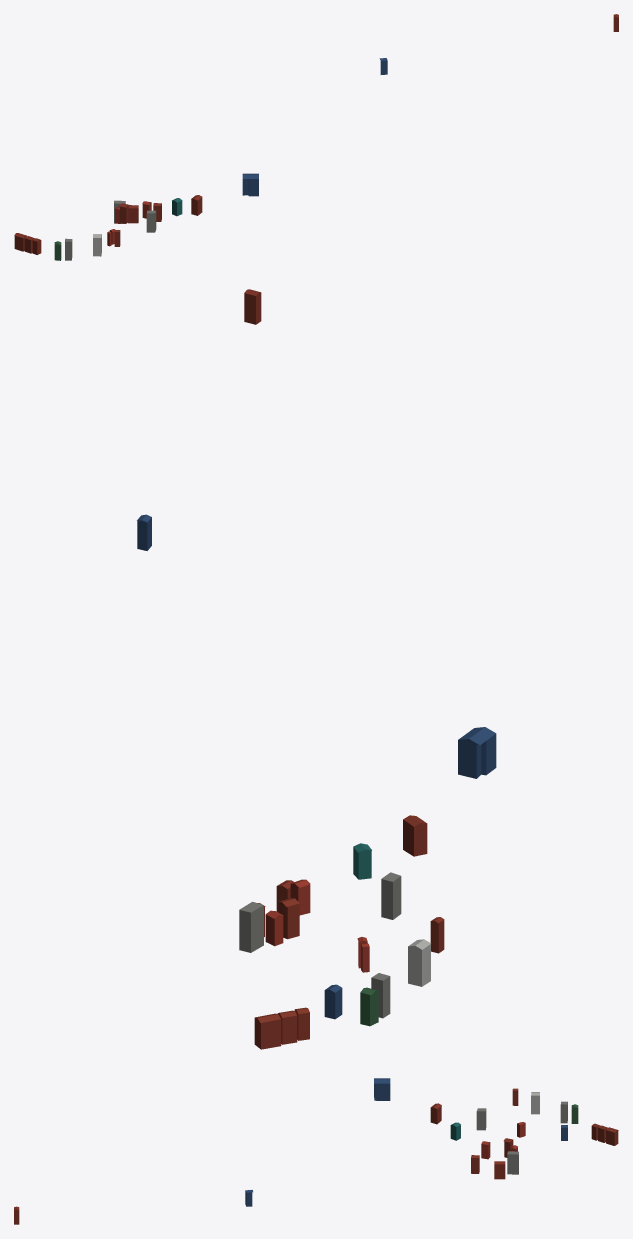
Rendered from near-15-27368-14866.f7dcd410.glb.
The picture shows the model from 3 angles, top to bottom: view 1: azimuth 90°, elevation 25°; view 2: azimuth 150°, elevation 25°; view 3: azimuth 270°, elevation 25°; orthographic projection. The views are drawn at different scales.
Size of the model in its own units: 454 by 109 by 680.
